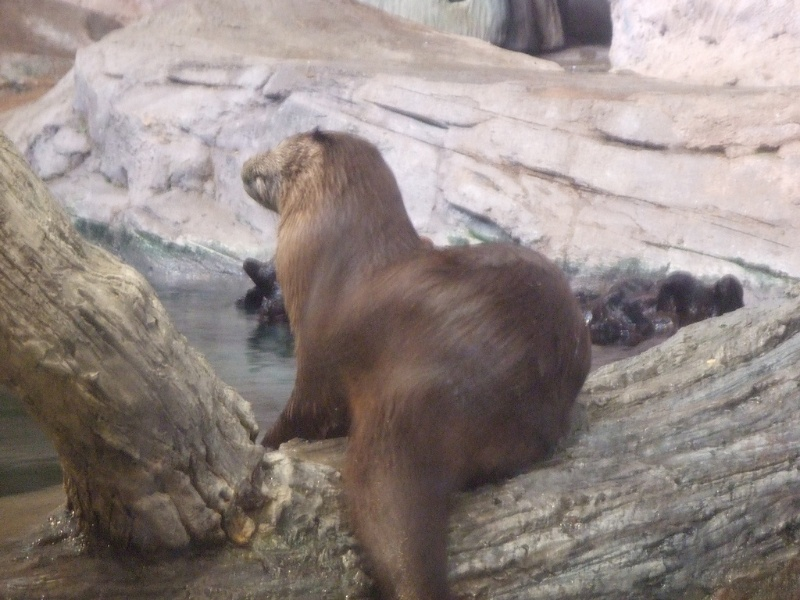minkish: (227, 123, 592, 597)
